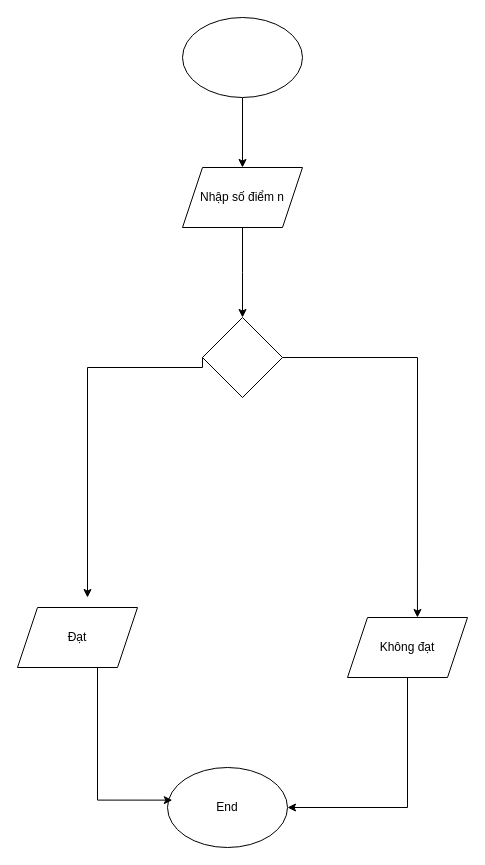
This 485x865 diagram has some shape labels left out. Each missing label, with the box of its shape:
Nếu n>5: (202, 316, 282, 398)
Start: (182, 16, 302, 98)
